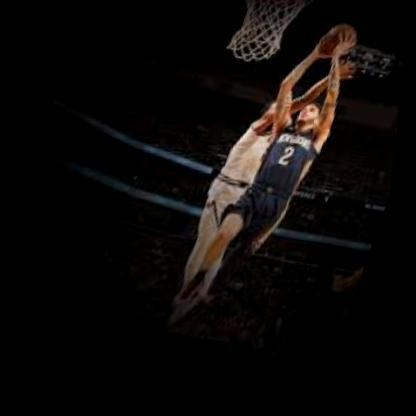basketball: (319, 26, 365, 69)
